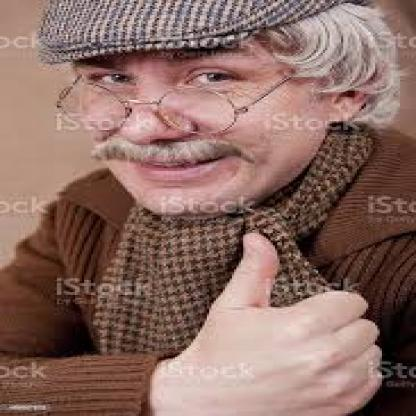thumb_up: (163, 228, 390, 416)
